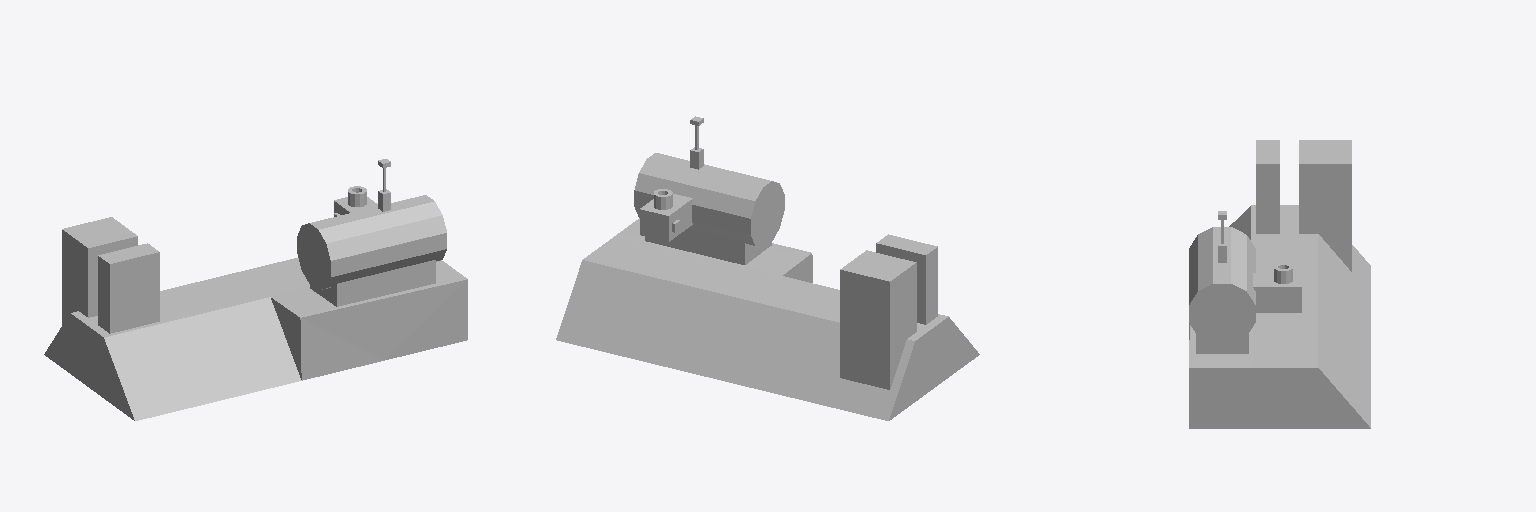
The model's file is steam_engine_base.obj.
The picture shows the model from 3 angles: view 1: azimuth 30°, elevation 25°; view 2: azimuth 150°, elevation 25°; view 3: azimuth 270°, elevation 25°; orthographic projection.
Parts seen in each view (by area): view 1: cube, cylinder; view 2: cube, cylinder; view 3: cube, cylinder.
Boxes of the visible parts, x1,y1,x2,y2 form: cube: [44, 159, 467, 420]; cylinder: [297, 195, 446, 290]; cube: [556, 116, 979, 420]; cylinder: [634, 153, 784, 247]; cube: [1189, 140, 1370, 428]; cylinder: [1189, 227, 1255, 344].
Bounding box in the file's own units: 5 × 2.62 × 2.38.